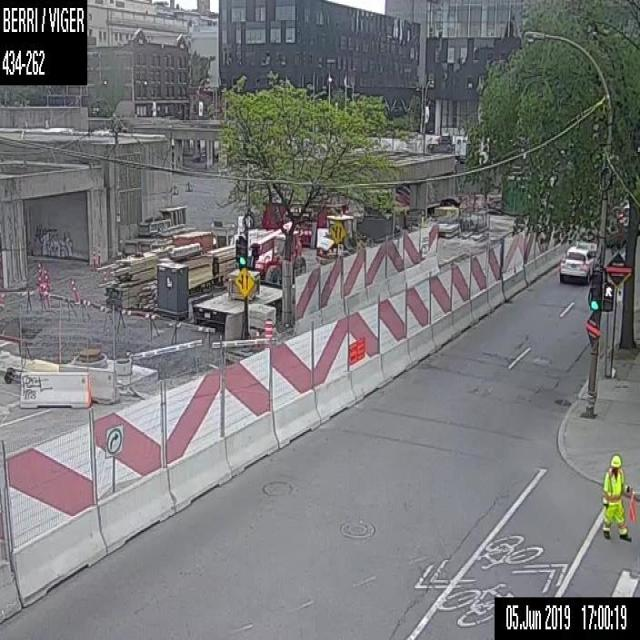construction: (0, 112, 597, 620), (263, 317, 272, 348)
pedestrian: (601, 450, 635, 542)
vehicle: (558, 244, 596, 284)
